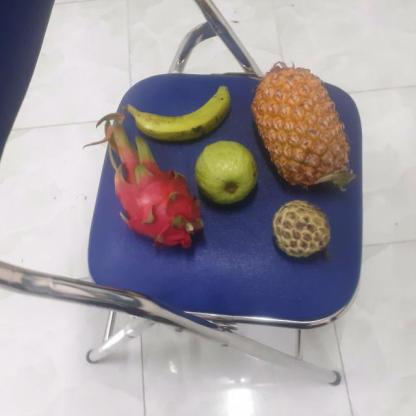annona: (273, 200, 337, 259)
banana: (129, 80, 233, 142)
guava: (194, 139, 262, 206)
pineapple: (254, 66, 358, 191)
pitaya: (113, 129, 206, 246)
